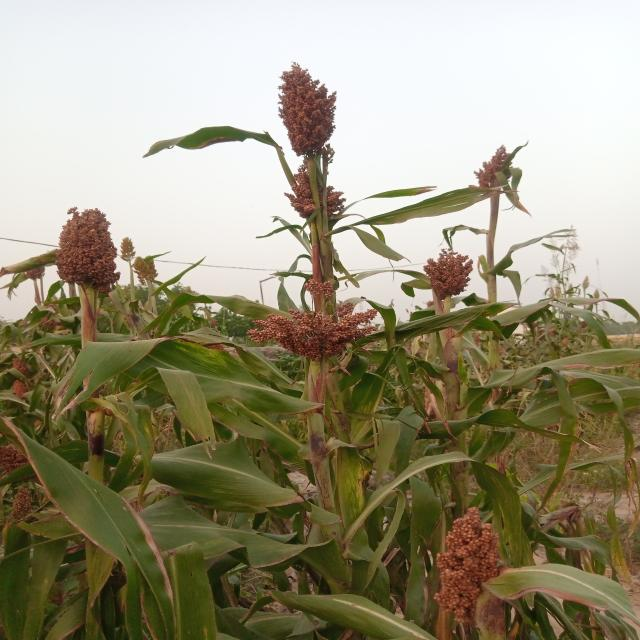RipeSorghum: (21, 200, 143, 311)
